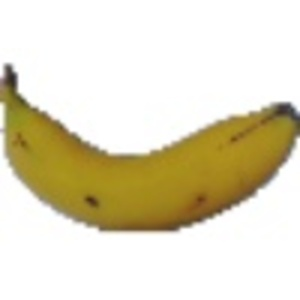banana: (4, 59, 295, 241)
